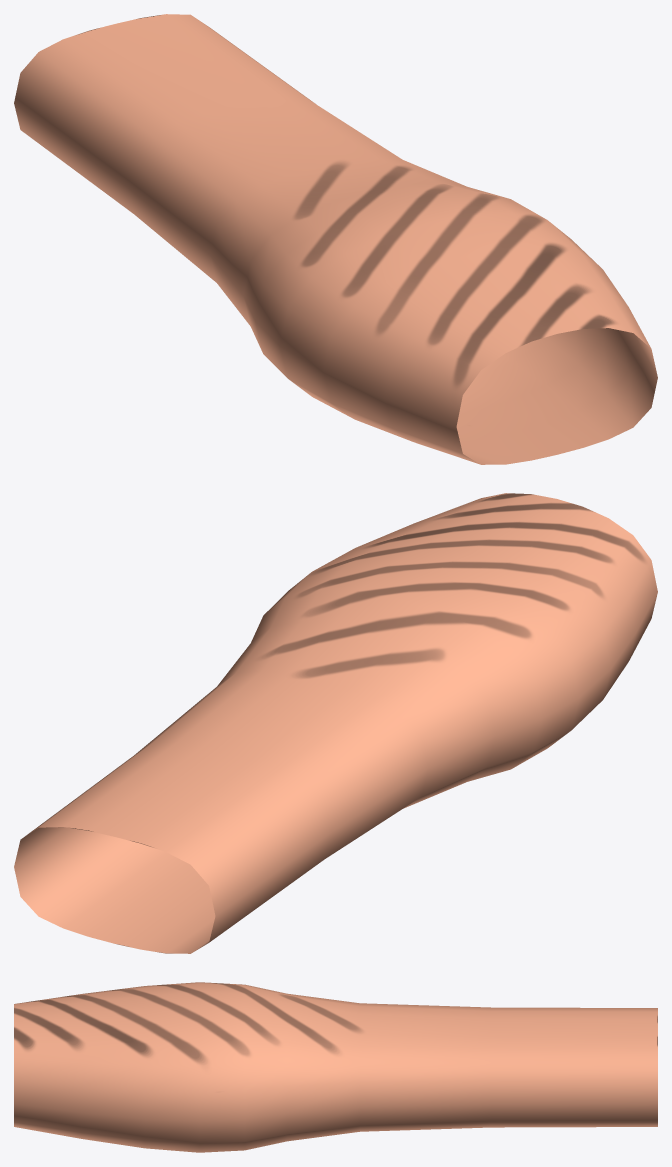
The model's file is arm.glb.
3 renders of one model, top to bottom at view 1: azimuth 30°, elevation 25°; view 2: azimuth 150°, elevation 25°; view 3: azimuth 270°, elevation 25°, orthographic. The views are drawn at different scales.
Parts seen in each view (by area): view 1: Arm; view 2: Arm; view 3: Arm.
Part boxes in pixels (<box>): Arm: <box>14,14,657,464</box>; Arm: <box>14,493,657,953</box>; Arm: <box>14,982,657,1152</box>.
Bounding box in the file's own units: 2.91 × 1.58 × 7.45.
Materials: 1 (1 with a texture image).
